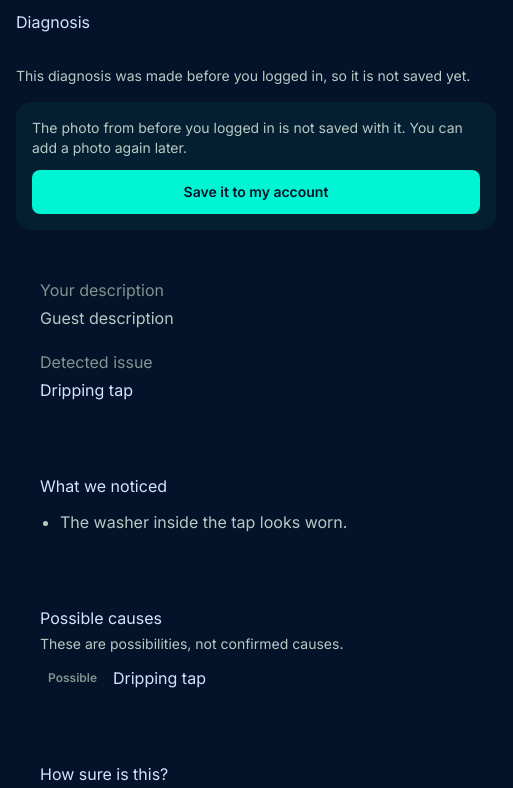
Test: claiming a result made before logging in never uploads its photo › the saved view of the claimed result shows the existing photo-missing notice
The width and height of the screenshot is (513, 788).
Click the button "Save it to my account": [256, 192] box [32,170,480,214]
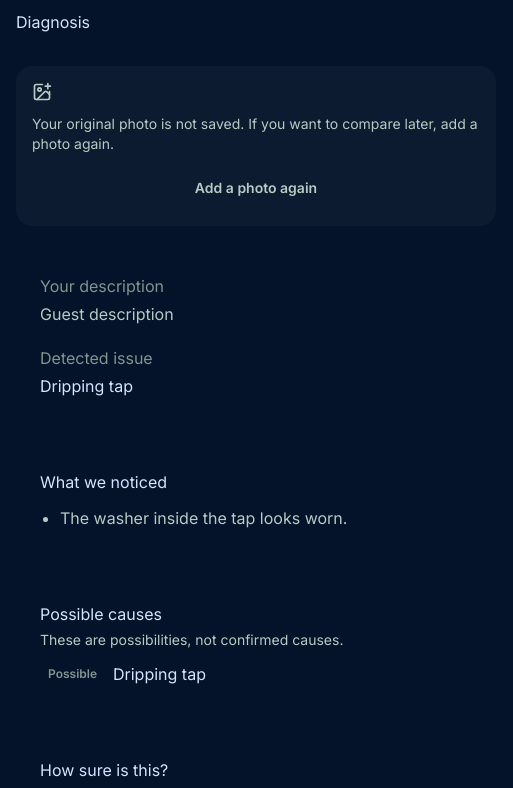
Expected: the text "Your original photo is not saved. If you want to compare later, add a photo again." is shown, [32,115,478,152]
